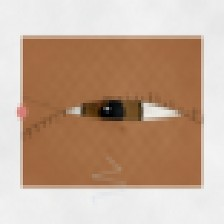foreign_body_visible: (94, 94, 114, 110)
